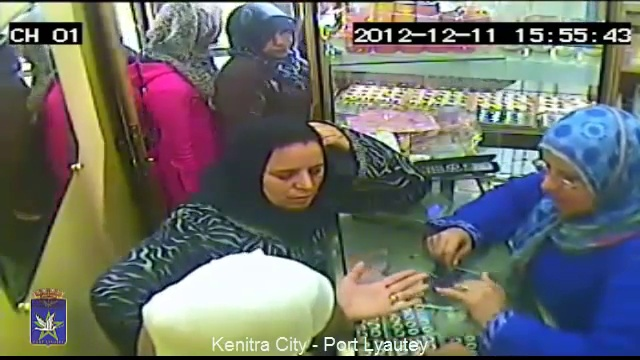face: (537, 143, 601, 216), (262, 157, 326, 211), (259, 24, 293, 61)
